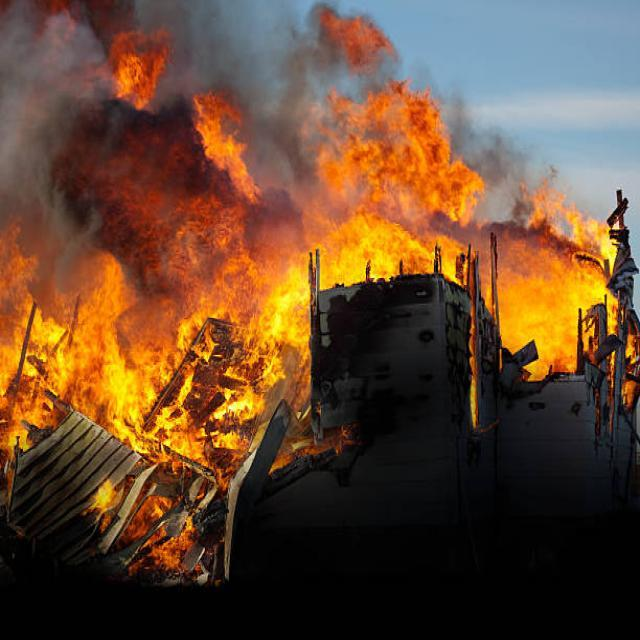Fire: (6, 265, 297, 449), (76, 114, 264, 297), (322, 82, 446, 276), (500, 215, 602, 344), (101, 26, 183, 107)
Smoke: (3, 8, 86, 270)
